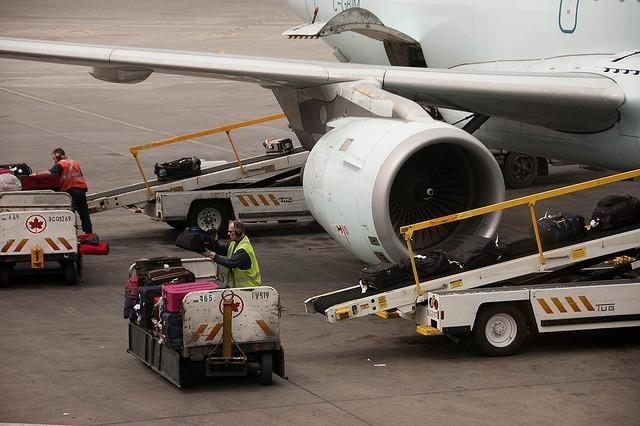truck: (303, 162, 640, 358), (88, 110, 312, 238), (126, 290, 287, 392), (1, 190, 82, 288)
